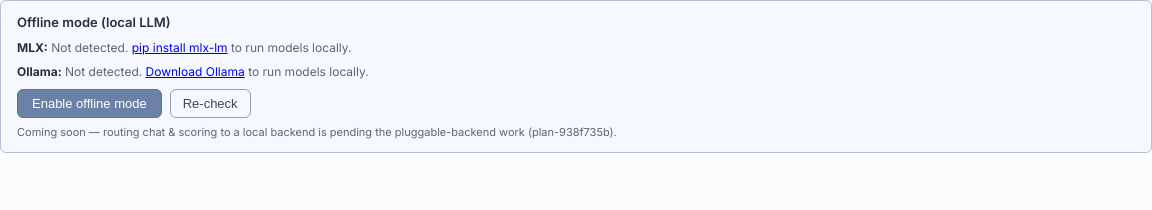
Test case: OfflineModeToggle › Enable surfaces the deferred pending-plan-938f735b notice (no crash)
This screenshot has width=1152, height=210.
Click the button "Enable offline mode": (89, 103) [17,88,162,118]
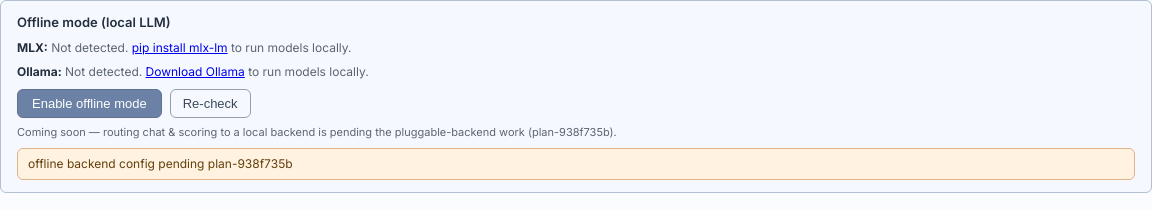
Check: the message with test id "offline-pending" shows "plan-938f735b", box [28,156,293,171]
